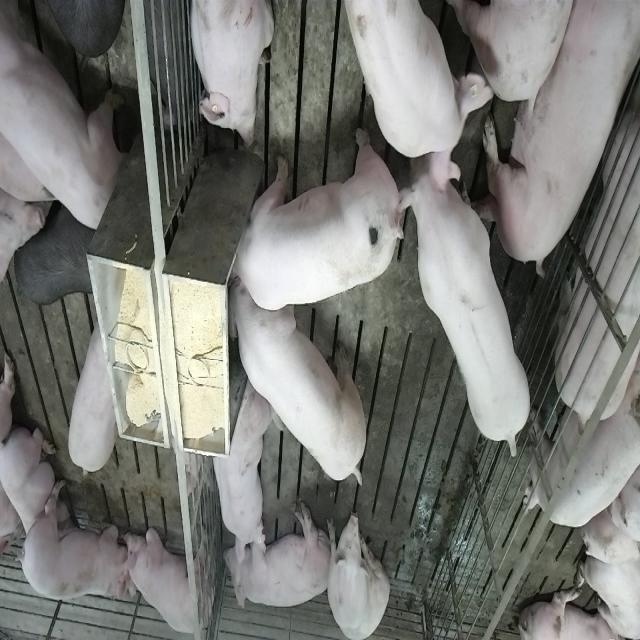Feeding: (221, 125, 397, 312), (229, 278, 371, 494)
Lateral_lying: (478, 0, 637, 274), (223, 500, 333, 614)
Sitting: (127, 513, 218, 640), (324, 503, 390, 638)
Standing: (394, 140, 532, 458), (552, 51, 640, 432), (1, 5, 126, 238), (347, 0, 492, 169), (528, 362, 640, 536), (21, 479, 132, 606), (14, 198, 94, 308), (63, 320, 117, 480)
Sternal_lying: (186, 0, 274, 150), (208, 376, 278, 562), (1, 428, 63, 558)
